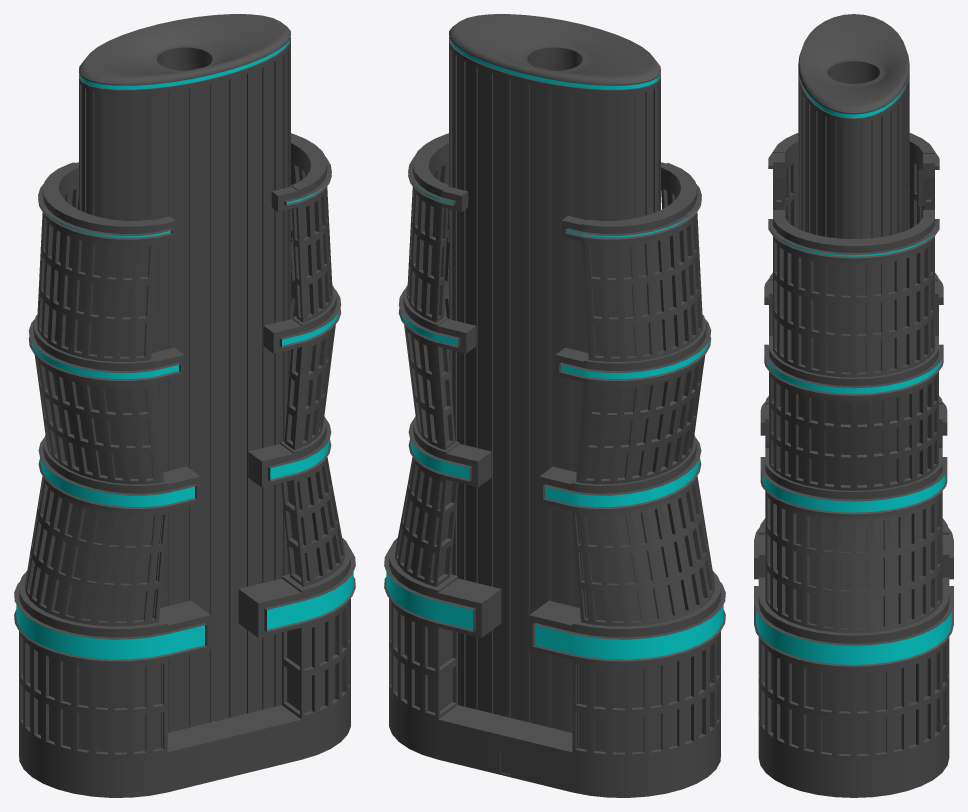
File: building2.fbx
3 views of the same model, side by side, from view 1: azimuth 30°, elevation 25°; view 2: azimuth 150°, elevation 25°; view 3: azimuth 270°, elevation 25° (orthographic). The views are drawn at different scales.
Visible parts, largest first — view 1: polySurface19; view 2: polySurface19; view 3: polySurface19.
Boxes of the visible parts, x1,y1,x2,y2 form: polySurface19: (14,14,355,797); polySurface19: (384,14,725,797); polySurface19: (754,14,953,797).
Bounding box in the file's own units: 99.5 × 210 × 57.05.
